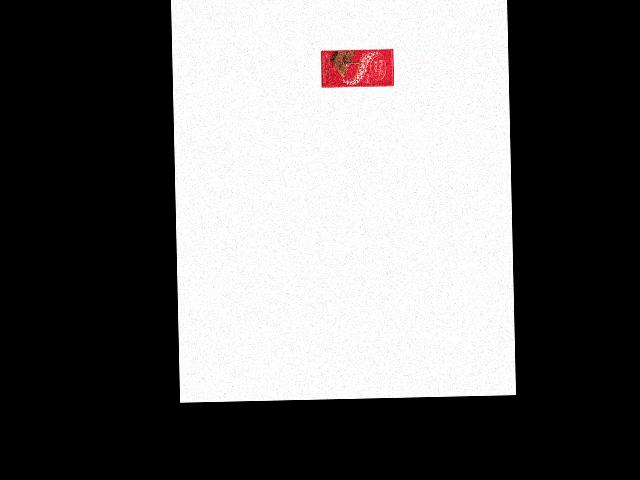chocolate: (321, 45, 393, 89)
